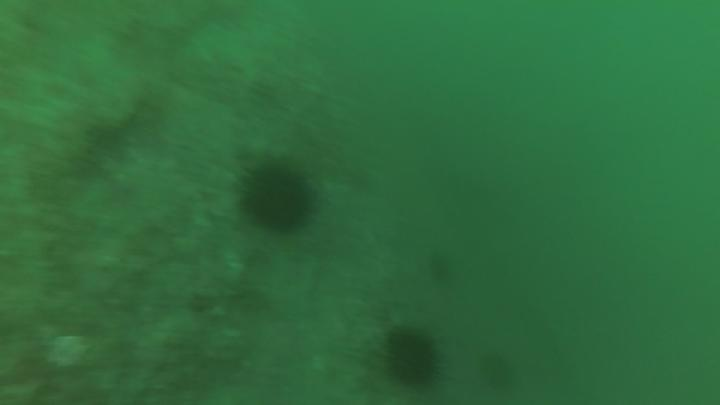echinus: (244, 168, 313, 232), (386, 330, 443, 389)
